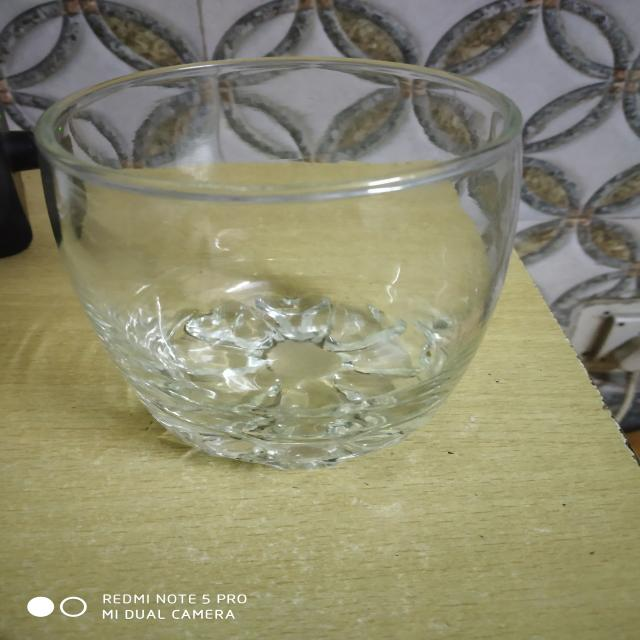Glass: (26, 53, 528, 475)
